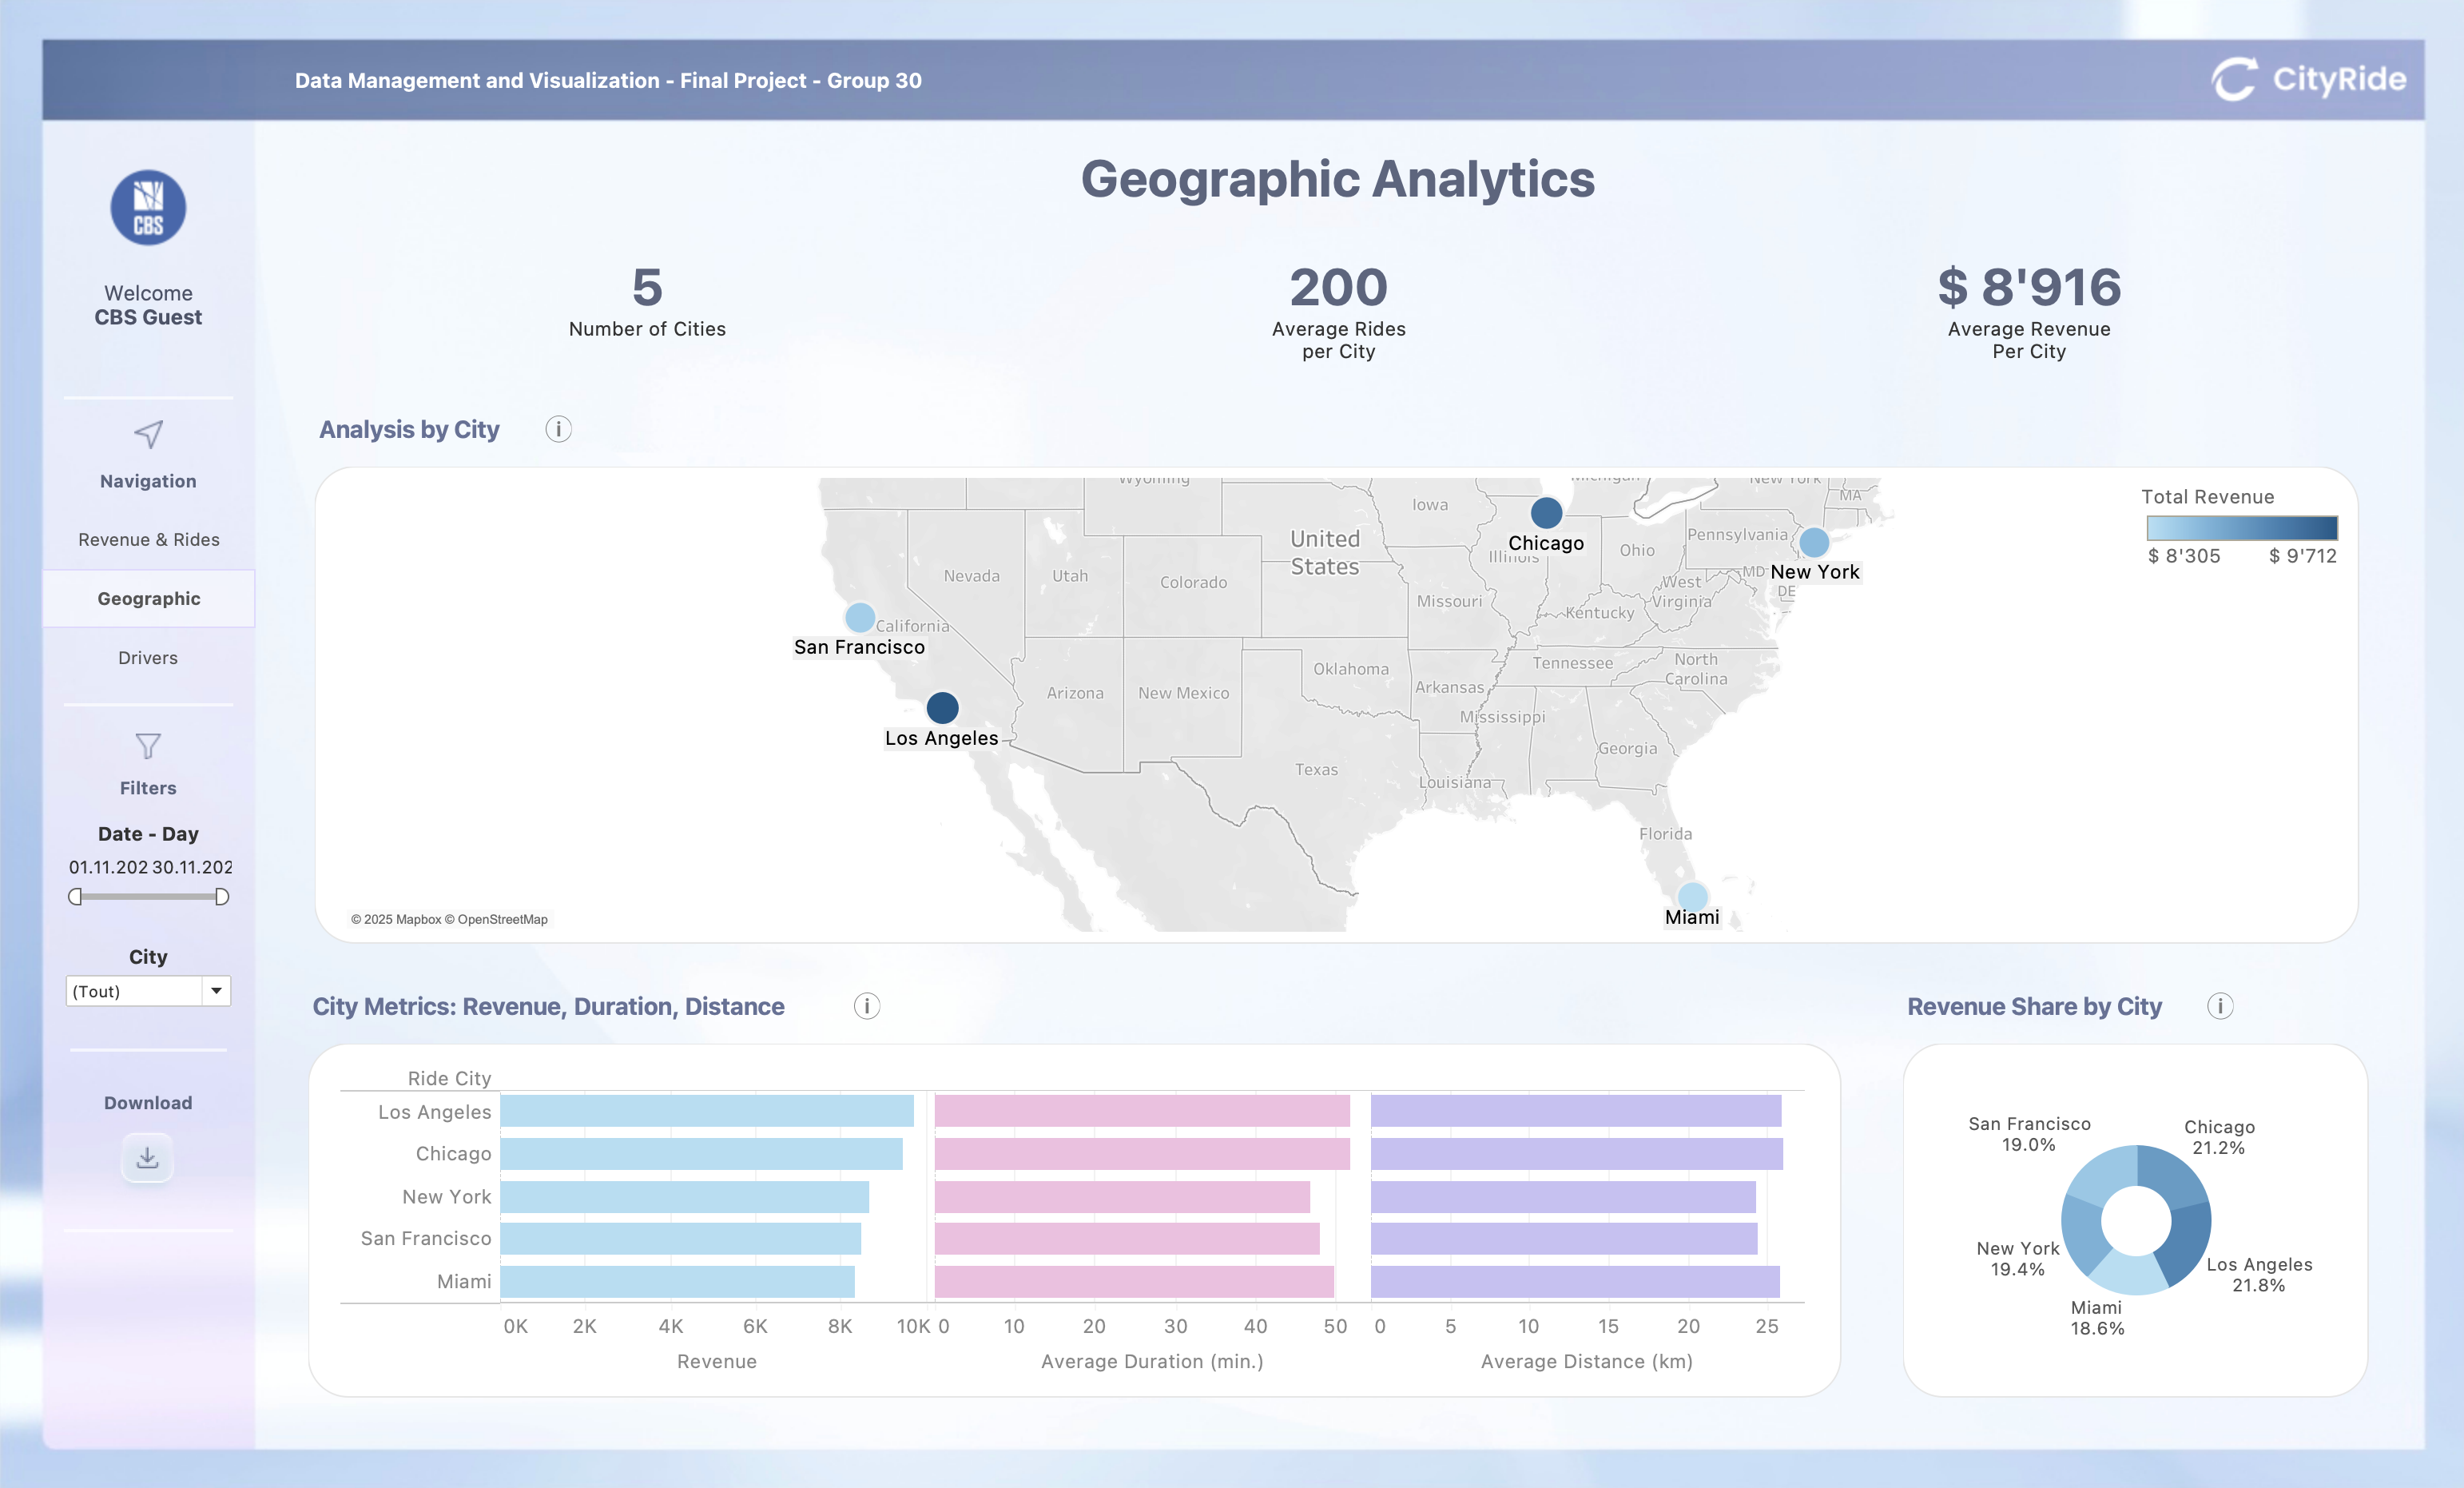

This screenshot's page, from the dashboard's own definition file:
{"tool":"tableau","page":{"name":"Geographic Analysis","canvas":[1545,935],"ordinal":1},"visuals":[{"type":"image","param":"Image/my dashy background2.jpg","box":[0,0,1545,935]},{"type":"text","box":[182,37,457,30]},{"type":"text","box":[166,81,1346,64]},{"type":"image","param":"Image/CBS_Guest2.png","box":[31,91,126,82]},{"type":"blank","box":[166,145,1346,10]},{"type":"blank","box":[166,155,20,750]},{"type":"blank","box":[1492,155,20,750]},{"type":"worksheet","title":"Total Revenue (2)","mark":"Automatic","box":[190,159,433,61]},{"type":"worksheet","title":"Total Rides (2)","mark":"Automatic","box":[623,159,433,61]},{"type":"worksheet","title":"Average Revenue per Ride","mark":"Automatic","box":[1056,159,432,76]},{"type":"text","box":[31,173,126,45]},{"type":"blank","box":[27,246,134,10]},{"type":"text","box":[194,250,139,40]},{"type":"worksheet","title":"Info - Analysis by City","mark":"Shape","rows":["Calculation_4254494283448487939"],"box":[333,250,35,40]},{"type":"image","param":"Image/nav3.png","box":[31,260,126,28.5]},{"type":"text","box":[31,288.5,126,28.5]},{"type":"worksheet","title":"Rounded Angles","mark":"Automatic","box":[194,290,1290,307]},{"type":"worksheet","title":"Analysis by City","mark":"Automatic","box":[215,301,1246,284]},{"type":"legend","title":"Analysis by City","param":"[federated.0rdon331r0s0vi1b5az8y1df2ouw].[sum:fare_usd:qk]","box":[1341,305,128,57]},{"type":"dashboard-object","box":[27,321,134,37]},{"type":"dashboard-object","box":[27,358,134,37]},{"type":"dashboard-object","box":[27,395,134,37]},{"type":"blank","box":[27,432,134,16]},{"type":"image","param":"Image/filter.png","box":[35,456,118,26]},{"type":"text","box":[35,482,118,26]},{"type":"filter","title":"Analysis by City","param":"[federated.0rdon331r0s0vi1b5az8y1df2ouw].[none:Full Date (copie)_371666597106969","box":[35,512,118,77]},{"type":"filter","title":"Analysis by City","param":"[federated.0rdon331r0s0vi1b5az8y1df2ouw].[none:Ride City (copie)_371666597107084","box":[35,589,118,51]},{"type":"blank","box":[190,601,1298,10]},{"type":"text","box":[190,611,336,40]},{"type":"worksheet","title":"Info - Revenue, Duration and Distance by City","mark":"Shape","rows":["Calculation_4254494283448487939"],"box":[526,611,35,40]},{"type":"blank","box":[1158,611,30,270]},{"type":"text","box":[1188,611,185,40]},{"type":"worksheet","title":"Info - Revenue Contribution by City","mark":"Shape","rows":["Calculation_4254494283448487939"],"box":[1373,611,35,40]},{"type":"blank","box":[31,648,126,16]},{"type":"worksheet","title":"Rounded Angles (2)","mark":"Automatic","box":[190,651,968,230]},{"type":"worksheet","title":"Rounded Angles (3)","mark":"Automatic","box":[1188,651,300,210]},{"type":"worksheet","title":"Revenue, Duration and Distance by City","mark":"Automatic","rows":["ride_city"],"cols":["fare_usd","duration_min","distance_km"],"box":[203,664,941,205]},{"type":"worksheet","title":"Revenue Contribution by City","mark":"Pie","cols":["Calculation_3716665971090399236","Calculation_3716665971090411526"],"box":[1202,666,272,181]},{"type":"text","box":[27,680,134,23]},{"type":"dashboard-object","box":[27,703,134,56]},{"type":"blank","box":[27,761,134,16]},{"type":"blank","box":[27,777,134,130]}]}

Visuals, with their boxes in screenshot pixels (x1, y1, x2, y2), scaled from the page's 1545x935 canvas onto the 2464x1488 screenshot:
image: l=0, t=0, r=2463, b=1487
text: l=290, t=59, r=1019, b=106
text: l=264, t=129, r=2411, b=231
image: l=50, t=145, r=250, b=276
blank: l=264, t=231, r=2411, b=247
blank: l=264, t=247, r=296, b=1440
blank: l=2379, t=247, r=2411, b=1440
"Total Revenue (2)" worksheet: l=303, t=253, r=994, b=350
"Total Rides (2)" worksheet: l=994, t=253, r=1684, b=350
"Average Revenue per Ride" worksheet: l=1684, t=253, r=2373, b=374
text: l=50, t=276, r=250, b=347
blank: l=43, t=392, r=256, b=408
text: l=309, t=398, r=531, b=462
"Info - Analysis by City" worksheet (Shape marks): l=531, t=398, r=587, b=462
image: l=50, t=414, r=250, b=460
text: l=50, t=460, r=250, b=504
"Rounded Angles" worksheet: l=309, t=462, r=2367, b=950
"Analysis by City" worksheet: l=343, t=479, r=2330, b=931
"Analysis by City" legend: l=2139, t=485, r=2343, b=576
dashboard-object: l=43, t=511, r=256, b=570
dashboard-object: l=43, t=570, r=256, b=629
dashboard-object: l=43, t=629, r=256, b=687
blank: l=43, t=687, r=256, b=713
image: l=56, t=726, r=244, b=767
text: l=56, t=767, r=244, b=809
"Analysis by City" filter: l=56, t=815, r=244, b=937
"Analysis by City" filter: l=56, t=937, r=244, b=1019
blank: l=303, t=957, r=2373, b=973
text: l=303, t=973, r=839, b=1036
"Info - Revenue, Duration and Distance by City" worksheet (Shape marks): l=839, t=973, r=895, b=1036
blank: l=1847, t=973, r=1894, b=1402
text: l=1894, t=973, r=2190, b=1036
"Info - Revenue Contribution by City" worksheet (Shape marks): l=2190, t=973, r=2246, b=1036
blank: l=50, t=1031, r=250, b=1056
"Rounded Angles (2)" worksheet: l=303, t=1036, r=1847, b=1402
"Rounded Angles (3)" worksheet: l=1894, t=1036, r=2373, b=1371
"Revenue, Duration and Distance by City" worksheet: l=324, t=1056, r=1825, b=1383
"Revenue Contribution by City" worksheet (Pie marks): l=1917, t=1060, r=2351, b=1348
text: l=43, t=1082, r=256, b=1119
dashboard-object: l=43, t=1119, r=256, b=1208
blank: l=43, t=1211, r=256, b=1236
blank: l=43, t=1236, r=256, b=1443
